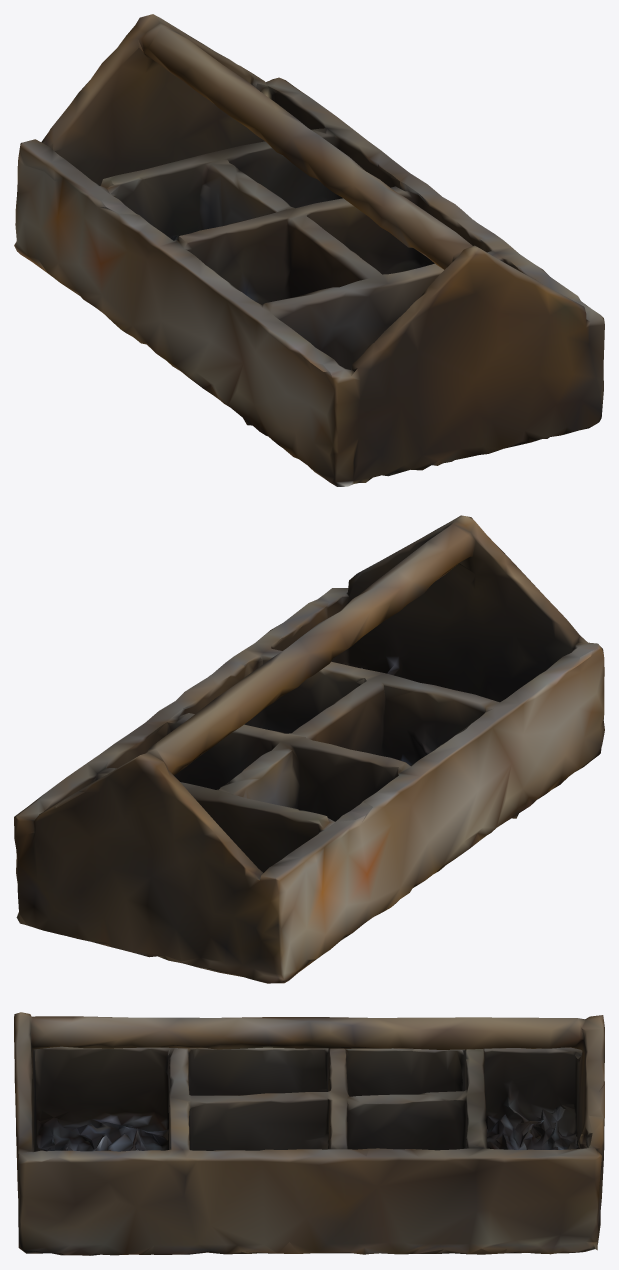
Rendered from MOD_ToolBox.fbx.
3 renders of one model, top to bottom at view 1: azimuth 30°, elevation 25°; view 2: azimuth 150°, elevation 25°; view 3: azimuth 270°, elevation 25°, orthographic. The views are drawn at different scales.
Visible parts, largest first — view 1: MOD_ToolBox; view 2: MOD_ToolBox; view 3: MOD_ToolBox.
Boxes of the visible parts, <box> form: MOD_ToolBox: <box>14,14,604,486</box>; MOD_ToolBox: <box>14,515,604,983</box>; MOD_ToolBox: <box>14,1012,604,1255</box>.
Size of the model in its own units: 25.68 by 18.73 by 53.65.
